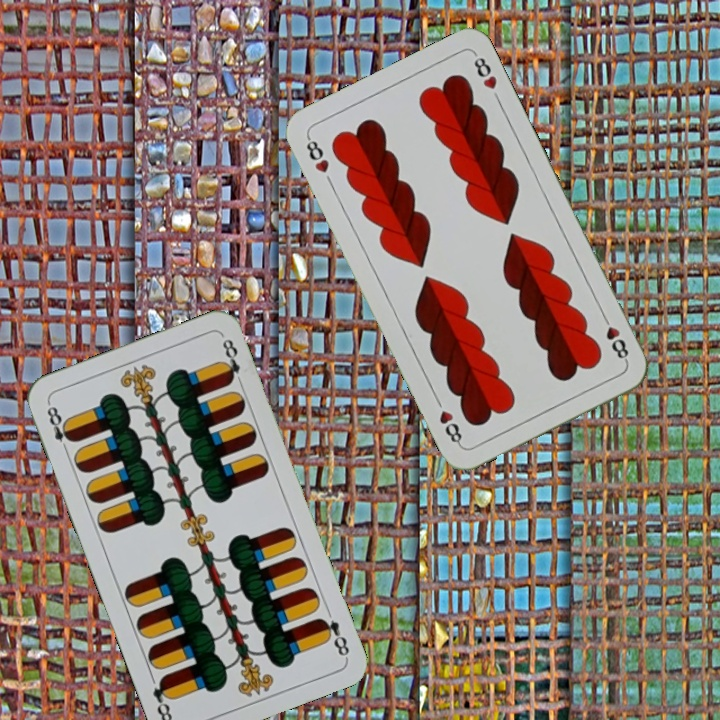E8: (43, 399, 77, 456), (314, 613, 352, 660)
H8: (598, 310, 632, 365), (302, 132, 332, 176)
